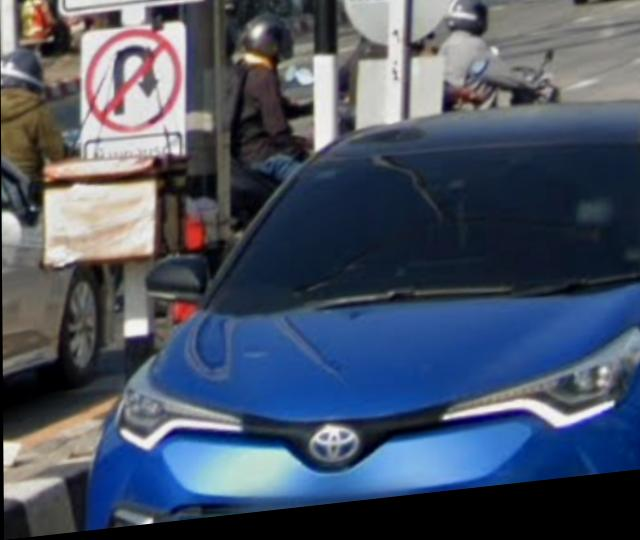not_u_turn_right: (84, 26, 183, 143)
